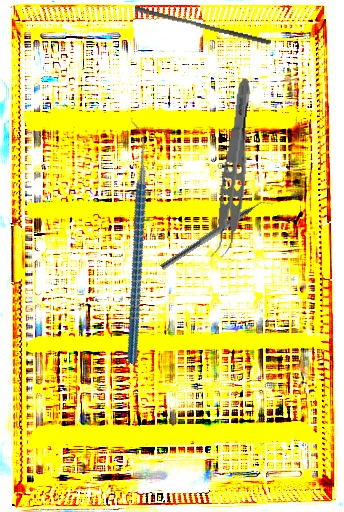Chopper: (46, 118, 220, 365), (160, 193, 275, 277)
Pusher: (133, 5, 273, 46)
Tissue Forceps: (208, 77, 254, 259)
